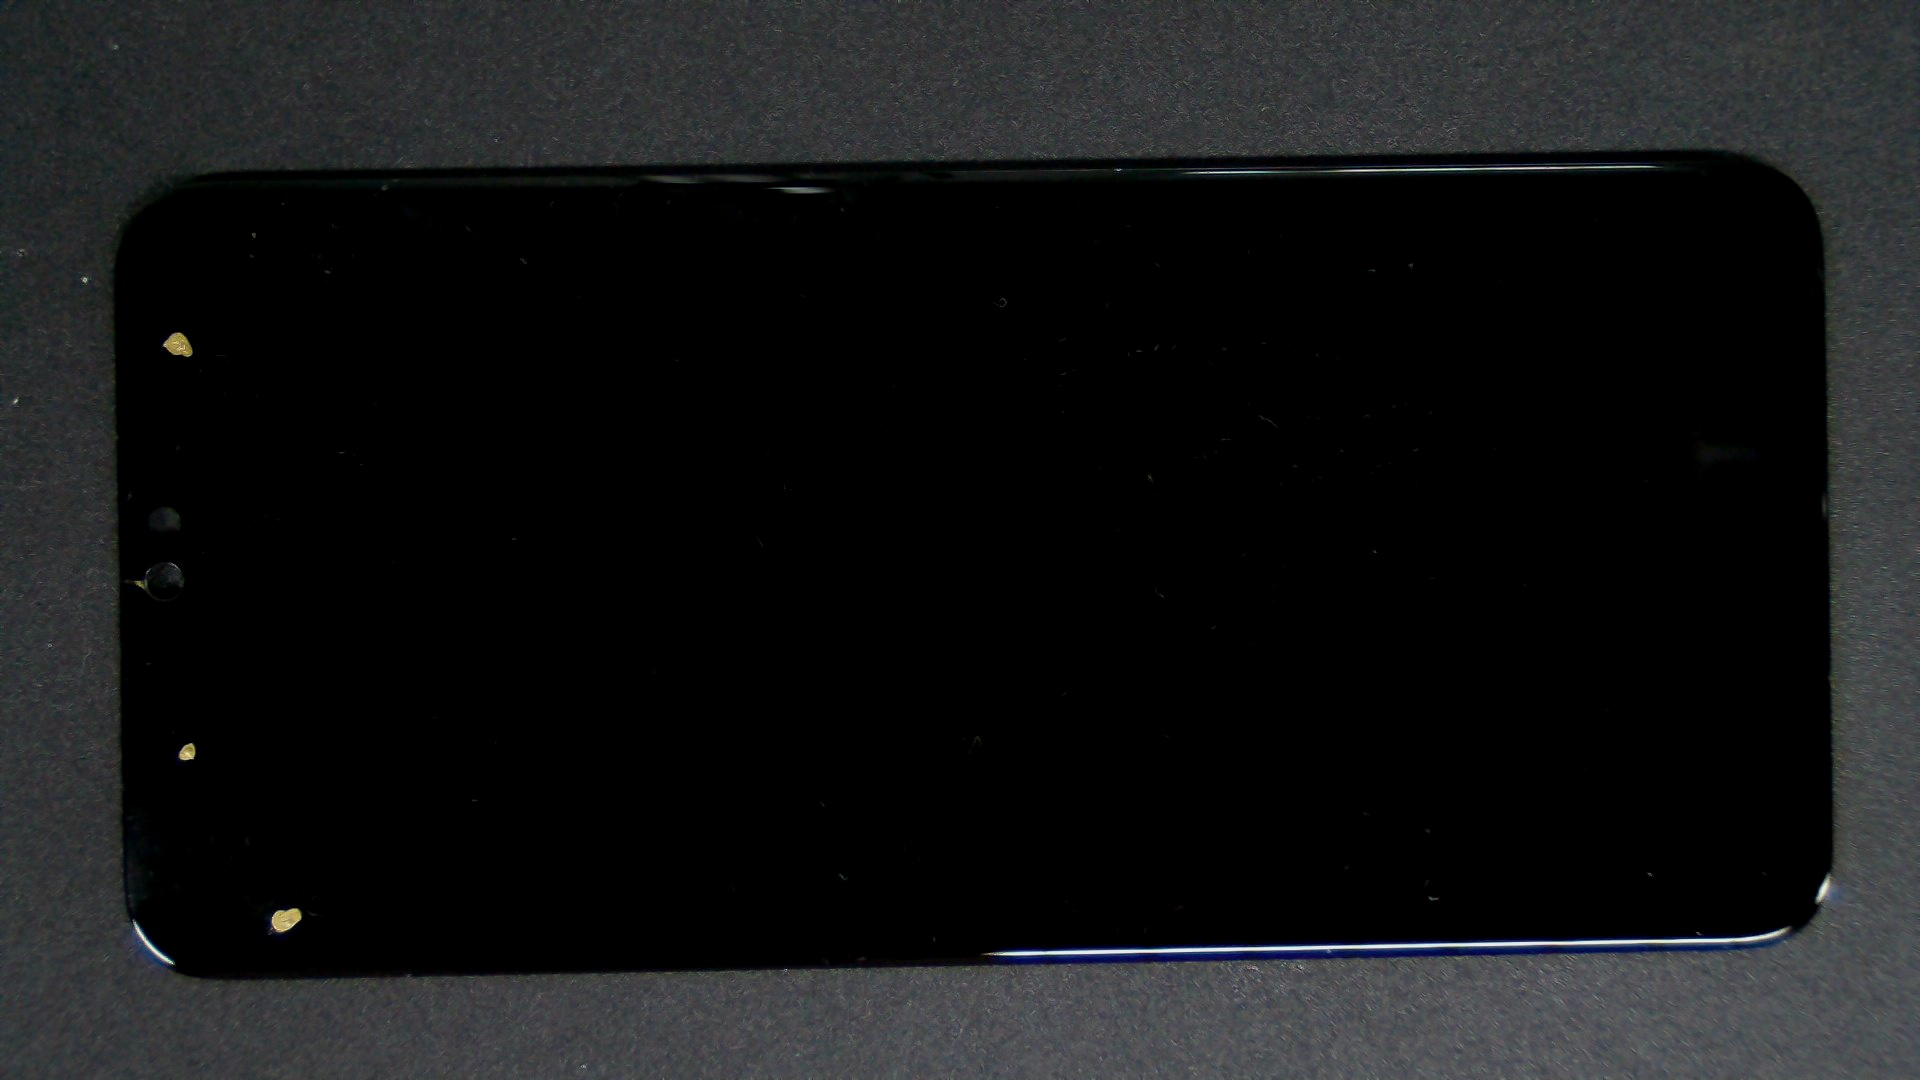oil: (148, 454, 440, 1080), (95, 371, 284, 1080), (88, 165, 264, 497)
